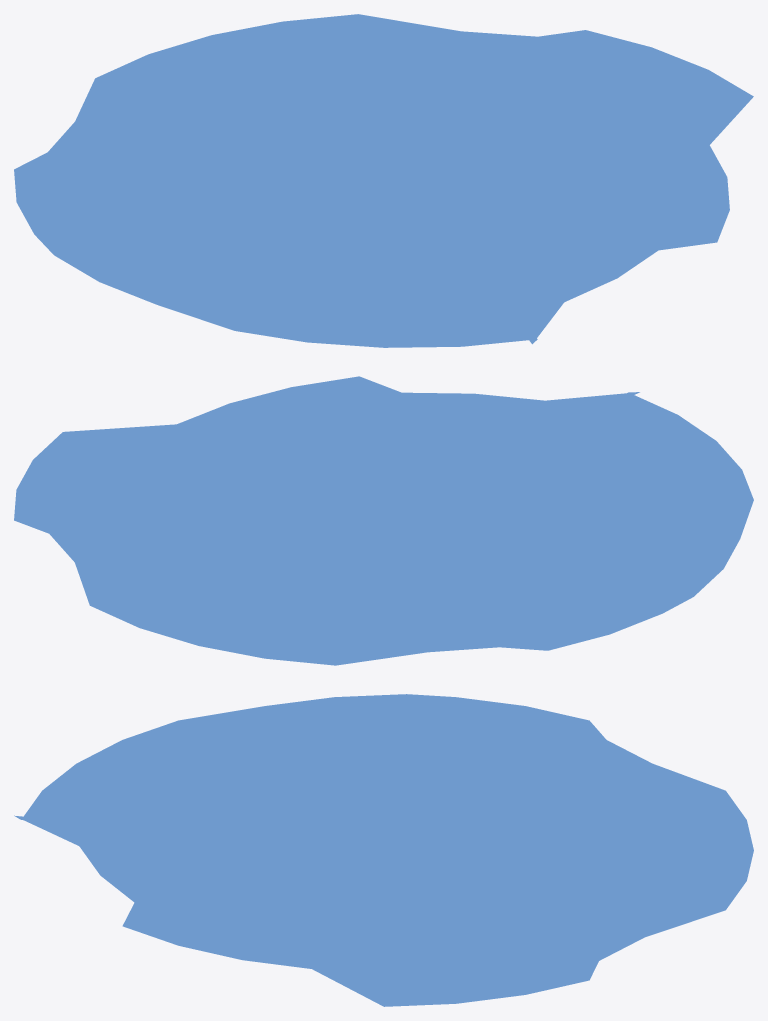
The model's file is Puddle.fbx.
The picture shows the model from 3 angles, top to bottom: view 1: azimuth 30°, elevation 25°; view 2: azimuth 150°, elevation 25°; view 3: azimuth 270°, elevation 25°; orthographic projection. The views are drawn at different scales.
Visible parts, largest first — view 1: Circle; view 2: Circle; view 3: Circle.
Part boxes in pixels (bbox=[...]): Circle: bbox=[14, 14, 753, 347]; Circle: bbox=[14, 376, 753, 665]; Circle: bbox=[14, 694, 753, 1006].
Bounding box in the file's own units: 565 × 9.2e-05 × 565.
